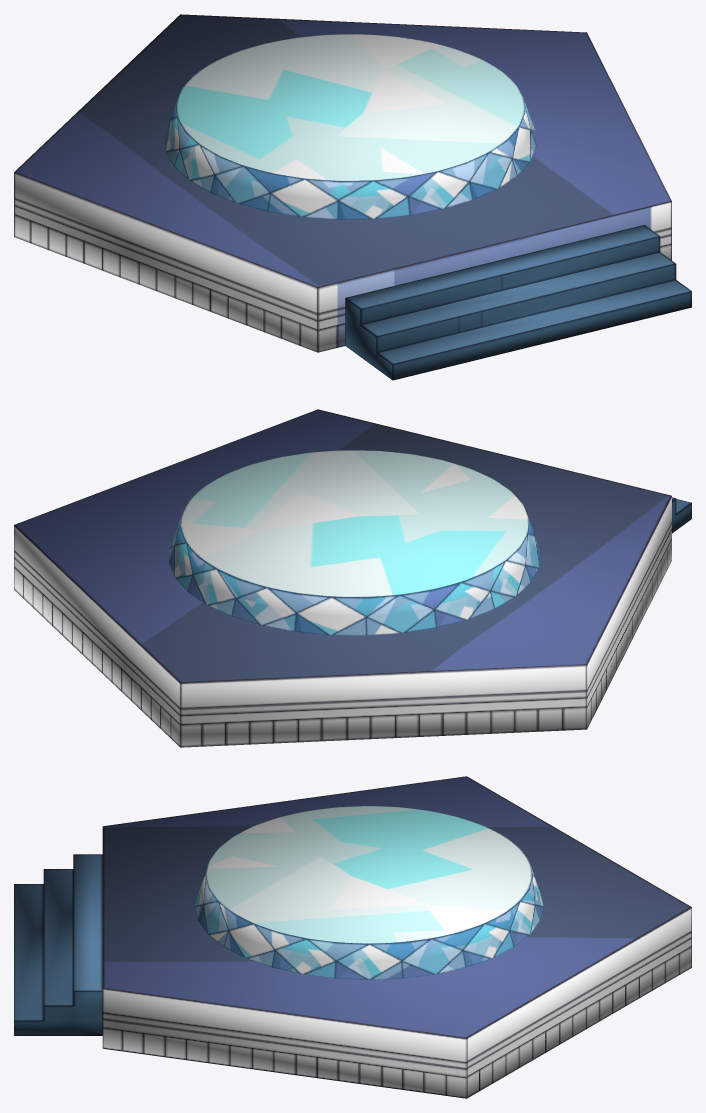
The model's file is Portal.obj.
The picture shows the model from 3 angles, top to bottom: view 1: azimuth 30°, elevation 25°; view 2: azimuth 150°, elevation 25°; view 3: azimuth 270°, elevation 25°; orthographic projection. The views are drawn at different scales.
Visible parts, largest first — view 1: teleport; view 2: teleport; view 3: teleport.
Part boxes in pixels (bbox=[...]): teleport: bbox=[14, 14, 691, 380]; teleport: bbox=[14, 409, 691, 747]; teleport: bbox=[14, 776, 691, 1098].
Size of the model in its own units: 37 by 6.06 by 40.49.
